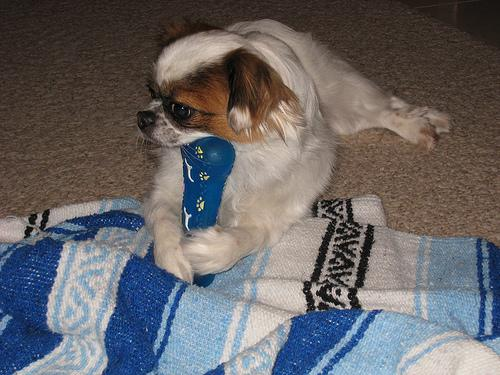dog-japanese_chin: (135, 20, 283, 147)
